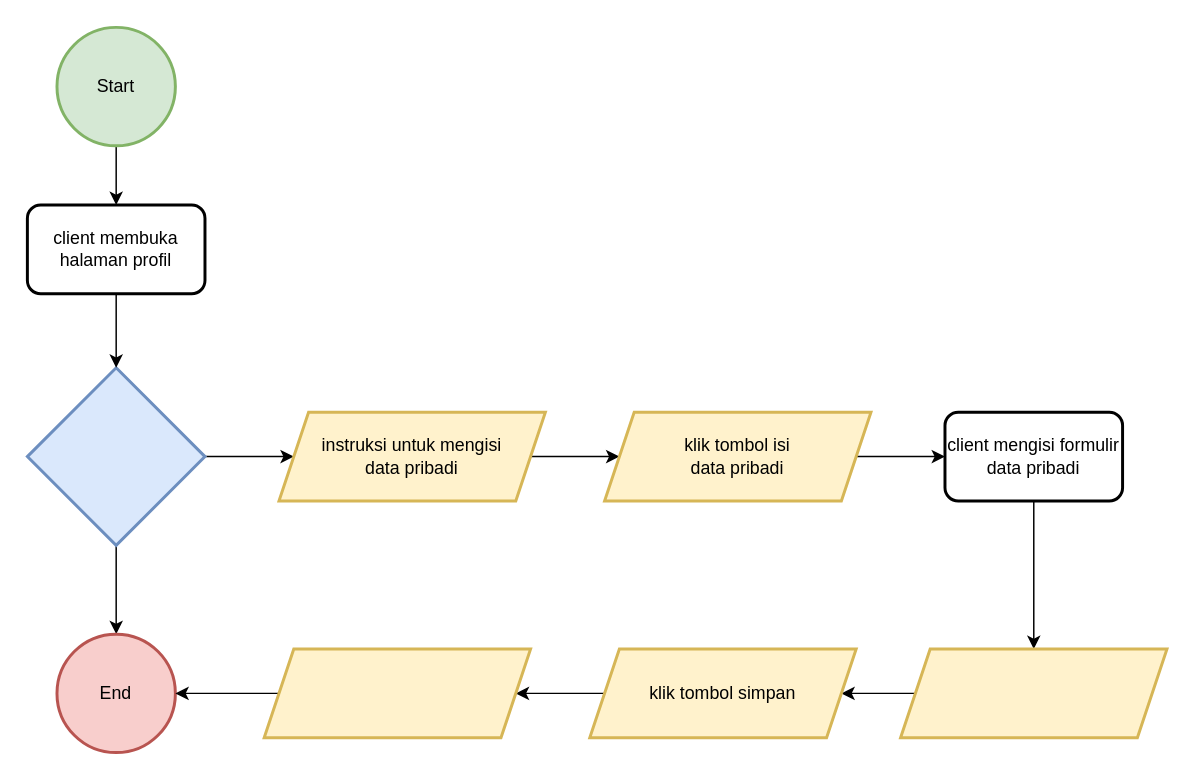
This 1193x778 diagram has some shape labels left out. The box of each missing label's shape, as (x1, y1, x2, y2) in pixels:
client mengkonfirmasi bahwa data yg diinput benar: (898, 647, 1168, 739)
respon dari server: (262, 647, 531, 739)
sudah pernah isi sebelumnya?: (25, 366, 206, 546)
